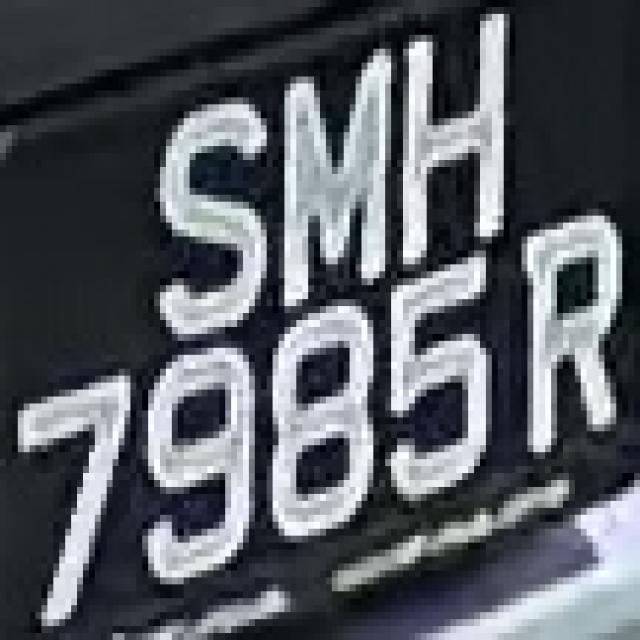5: (373, 271, 510, 508)
7: (0, 4, 1, 7)
8: (255, 313, 391, 543)
9: (125, 341, 266, 584)
H: (397, 7, 522, 271)
M: (267, 35, 403, 306)
R: (498, 188, 622, 459)
S: (142, 90, 273, 348)
